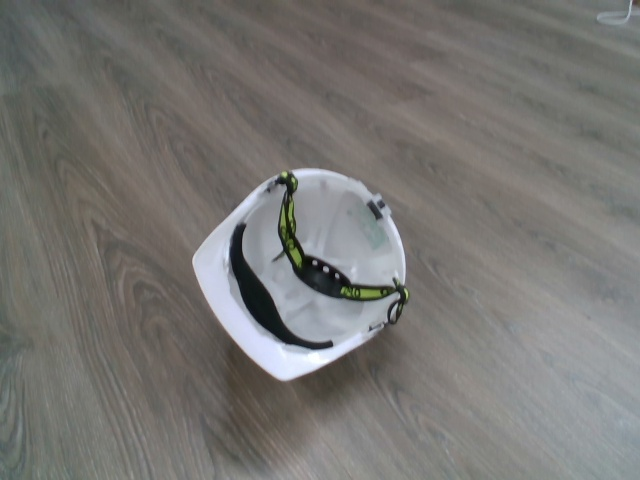helmet: (188, 163, 420, 383)
